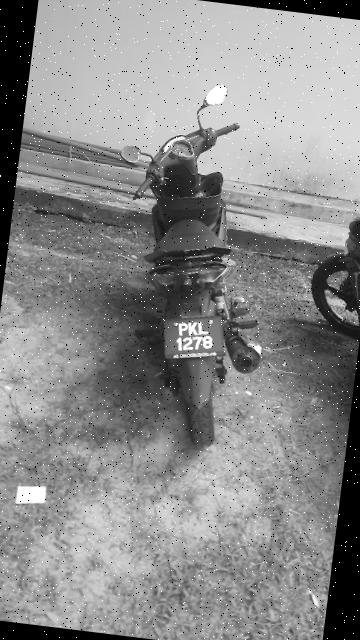License_Plate: (151, 311, 245, 370)
motorcycle: (80, 66, 298, 461)
